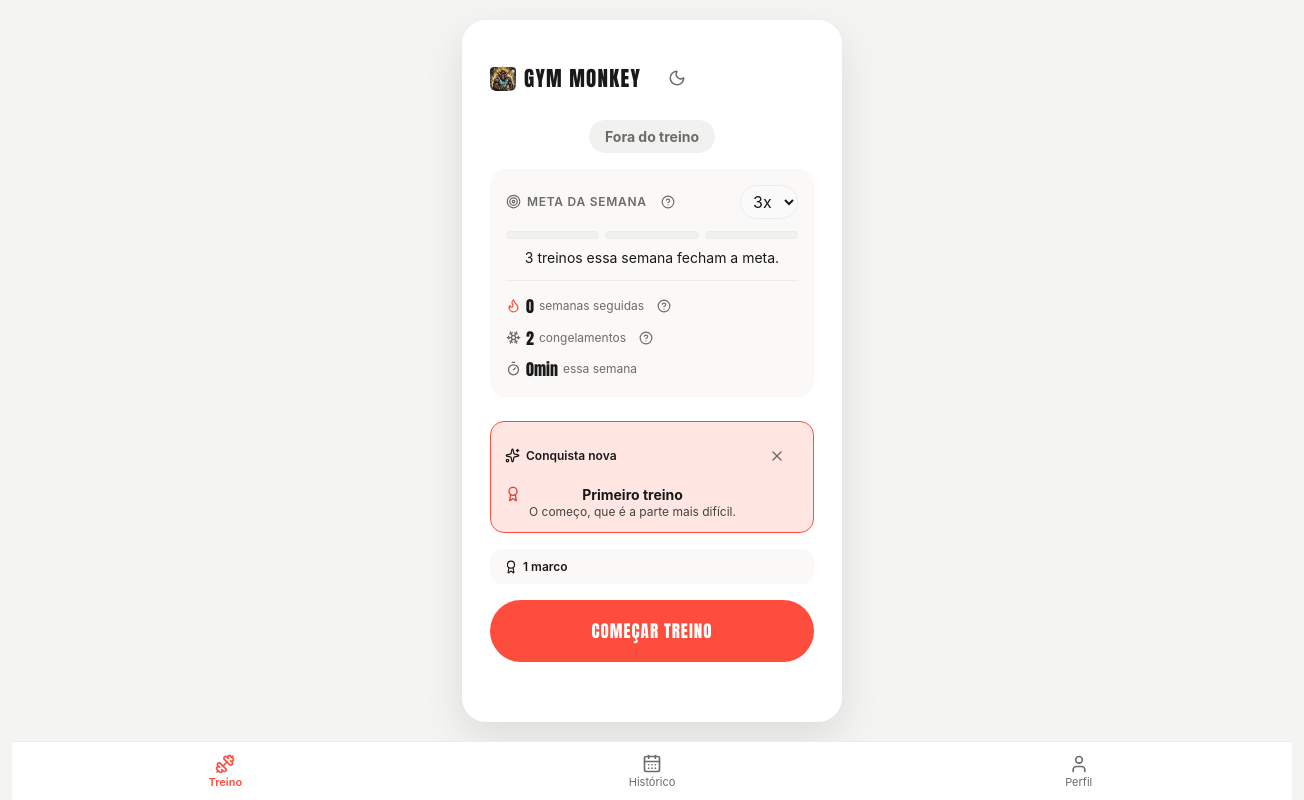
Scenario: PontoScreen (sessoes) › conquistas › fechar a festa avisa o servidor e some da tela
Expected: the message labelled "Conquista nova" is shown, [490, 421, 814, 533]
Click the button named "Fechar comemoração": (777, 456) [755, 434, 799, 478]
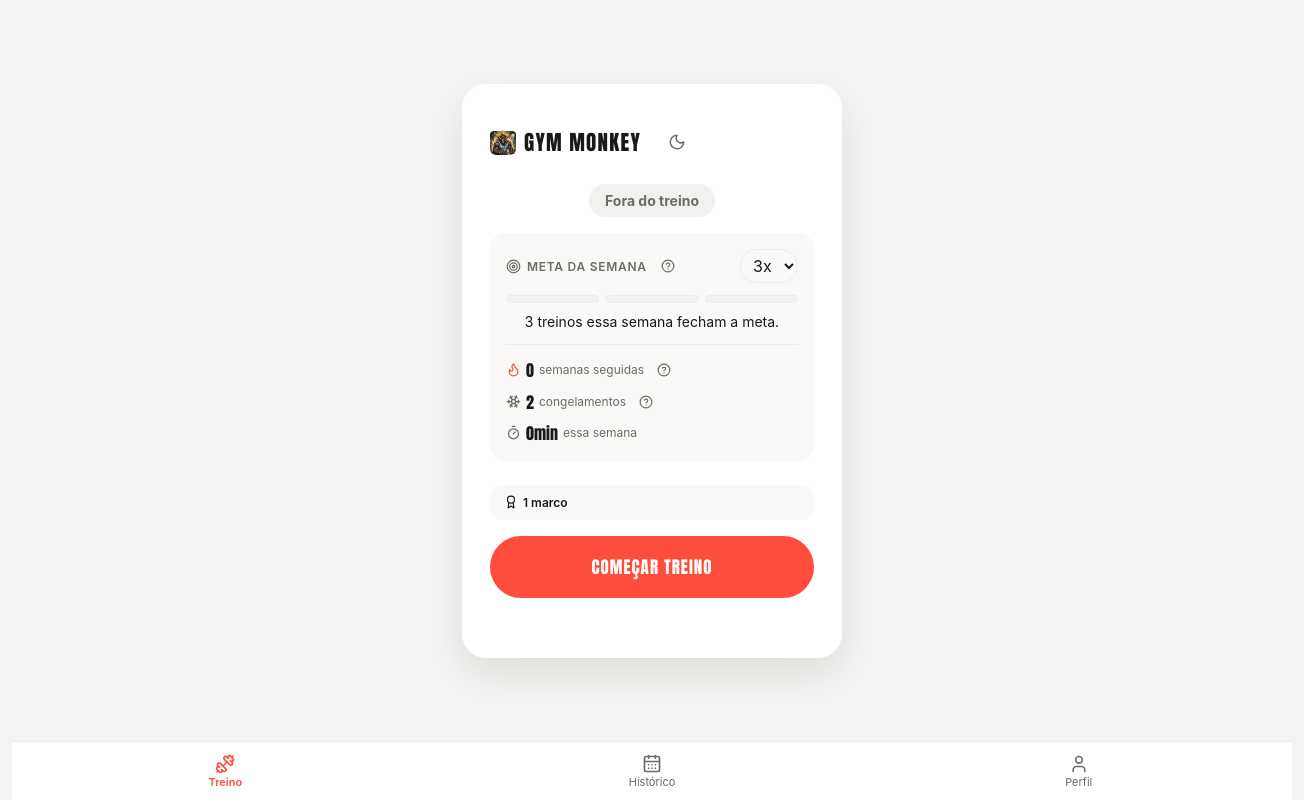
Expected: the field labelled "Conquista nova" is gone
